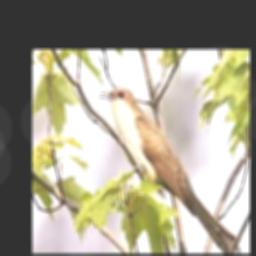Cuckoo: (98, 87, 242, 254)
